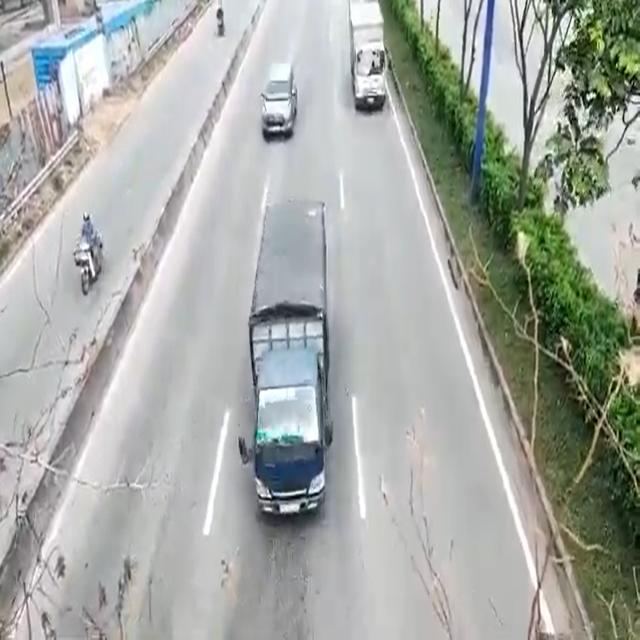car: (260, 62, 295, 140)
motorbike: (73, 236, 103, 294), (215, 12, 226, 41)
truck: (258, 196, 324, 526), (349, 0, 386, 112)
